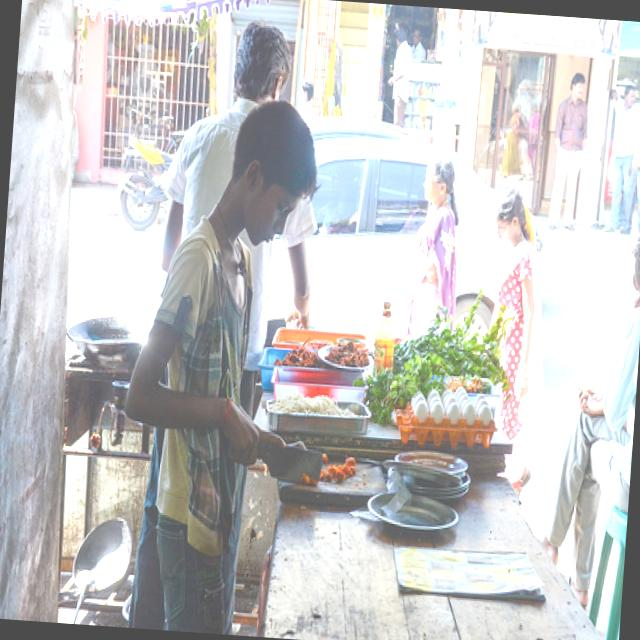Vehicle: (264, 129, 516, 365), (114, 138, 180, 234), (300, 113, 414, 153)
